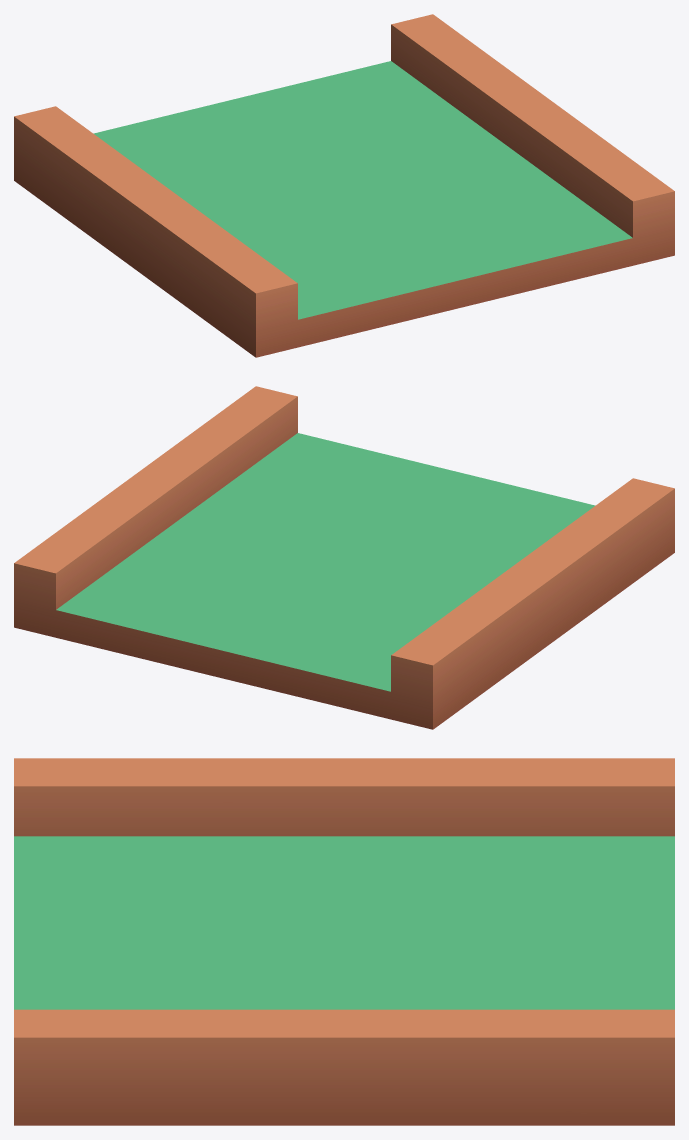
File: straight.glb
3 renders of one model, top to bottom at view 1: azimuth 30°, elevation 25°; view 2: azimuth 150°, elevation 25°; view 3: azimuth 270°, elevation 25°, orthographic. The views are drawn at different scales.
Visible parts, largest first — view 1: straight; view 2: straight; view 3: straight.
Part boxes in pixels (<box>): straight: <box>14,14,674,357</box>; straight: <box>14,386,674,729</box>; straight: <box>14,758,674,1125</box>.
Size of the model in its own units: 0.9999 by 0.1466 by 0.9999.
Materials: 1 (1 with a texture image).
